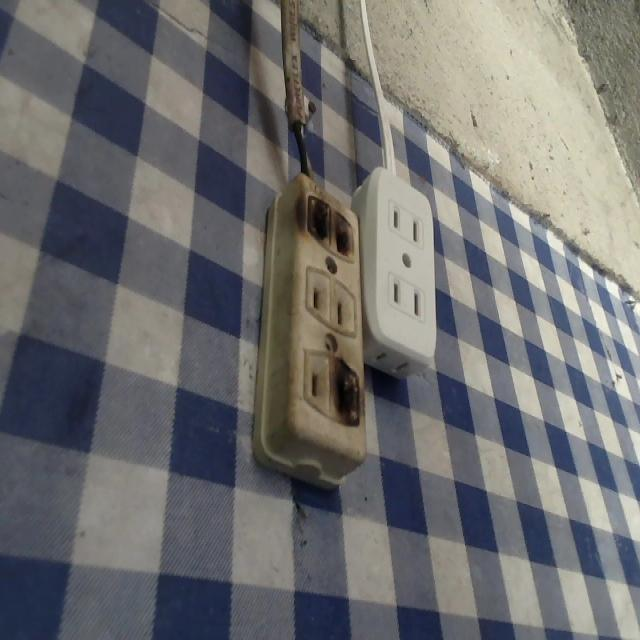-: (302, 191, 357, 260), (329, 358, 366, 431)
